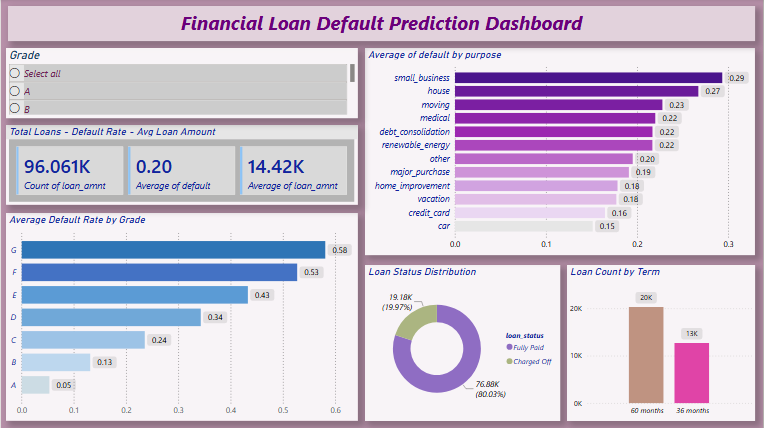

What the dashboard file says about the page in this screenshot:
{"tool":"powerbi","page":{"name":"Loan Default Analysis","canvas":[1280,720],"ordinal":0},"visuals":[{"type":"clusteredBarChart","title":"Average Default Rate by Grade","fields":{"Category":["loan_data_clean.grade"],"Y":["Avg(loan_data_clean.default)"]},"box":[8.4,359.5,591.3,349.4],"z":0},{"type":"donutChart","title":"Loan Status Distribution","fields":{"Category":["loan_data_clean.loan_status"],"Y":["CountNonNull(loan_data_clean.loan_amnt)"]},"box":[611.4,446.8,327.6,262],"z":1000},{"type":"clusteredBarChart","fields":{"Category":["loan_data_clean.purpose"],"Y":["Avg(loan_data_clean.default)"]},"box":[611.4,82.3,655.1,347.7],"z":2000},{"type":"clusteredColumnChart","title":"Loan Count by Term","fields":{"Category":["loan_data_clean.term"],"Y":["Avg(loan_data_clean.loan_amnt)"]},"box":[950.8,446.8,315.8,262],"z":3000},{"type":"cardVisual","title":"Total Loans - Default Rate - Avg Loan Amount","fields":{"Data":["CountNonNull(loan_data_clean.loan_amnt)1","Avg(loan_data_clean.default)","Avg(loan_data_clean.loan_amnt)"]},"box":[8.4,211.7,591.3,134.4],"z":4000},{"type":"textbox","box":[11.8,11.8,1254.8,58.8],"z":5000},{"type":"listSlicer","title":"Grade","fields":{"Values":["loan_data_clean.grade"]},"box":[8.4,82.3,591.3,117.6],"z":6000}]}

Visuals, with their boxes in screenshot pixels (x1, y1, x2, y2), scaled from the page's 1280x720 canvas onto the 764x428 screenshot:
"Average Default Rate by Grade" clusteredBarChart: (5,214,358,421)
"Loan Status Distribution" donutChart: (365,266,560,421)
clusteredBarChart - loan_data_clean.purpose x Avg(loan_data_clean.default): (365,49,756,256)
"Loan Count by Term" clusteredColumnChart: (568,266,756,421)
"Total Loans - Default Rate - Avg Loan Amount" cardVisual: (5,126,358,206)
textbox: (7,7,756,42)
"Grade" listSlicer: (5,49,358,119)
